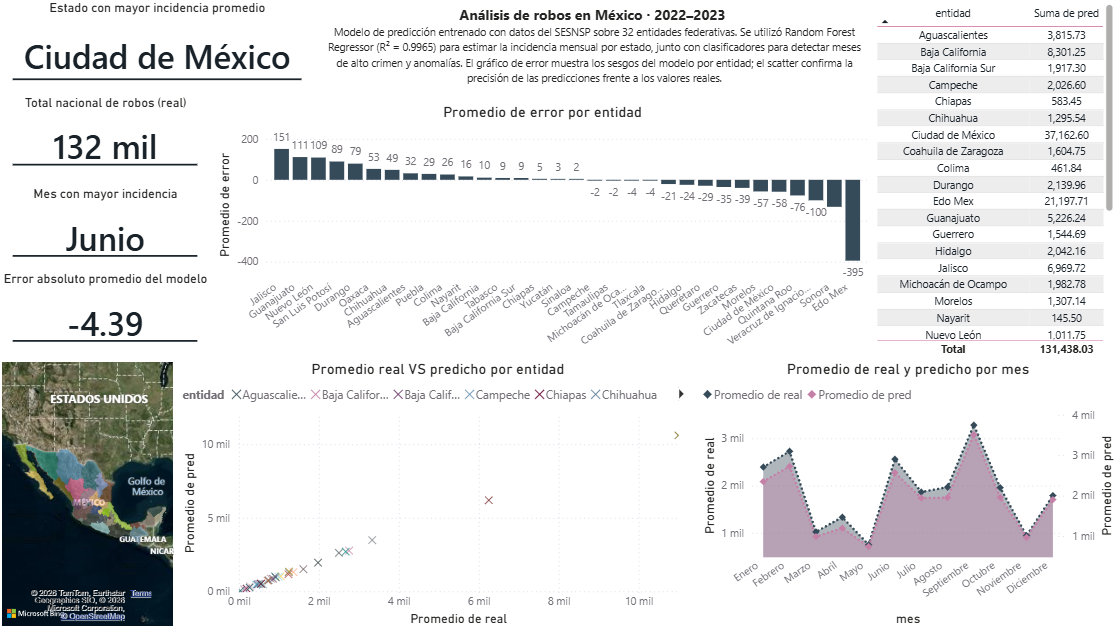

This screenshot's page, from the dashboard's own definition file:
{"tool":"powerbi","page":{"name":"Página 1","canvas":[1280,720],"ordinal":0},"visuals":[{"type":"clusteredColumnChart","fields":{"Y":["Avg(resultados_modelo.error)"],"Category":["resultados_modelo.entidad"]},"box":[245.8,117.4,753.3,291],"z":0},{"type":"tableEx","fields":{"Values":["resultados_modelo.entidad","Sum(resultados_modelo.pred)"]},"box":[999.1,0,281.3,412.1],"z":1000},{"type":"filledMap","fields":{"Category":["resultados_modelo.entidad"],"Series":["resultados_modelo.pred"]},"box":[0,408.4,205.4,311.8],"z":2000},{"type":"textbox","box":[364.4,0,634.7,108.8],"z":3000},{"type":"cardVisual","title":"Total nacional de robos (real)","fields":{"Data":["resultados_modelo.Total Nacional"]},"box":[0,108.8,245.8,97.8],"z":4000},{"type":"cardVisual","title":"Estado con mayor incidencia promedio","fields":{"Data":["resultados_modelo.Estado Top"]},"box":[0,0,364.4,108.8],"z":5000},{"type":"cardVisual","title":"Mes con mayor incidencia","fields":{"Data":["resultados_modelo.Mes Pico"]},"box":[0,212.8,245.8,97.8],"z":6000},{"type":"cardVisual","title":"Error absoluto promedio del modelo","fields":{"Data":["resultados_modelo.MAE Modelo"]},"box":[0,310.6,245.8,97.8],"z":7000},{"type":"scatterChart","title":"Promedio real VS predicho por entidad","fields":{"X":["Avg(resultados_modelo.real)"],"Y":["Avg(resultados_modelo.pred)"],"Category":["resultados_modelo.entidad"],"Series":["resultados_modelo.entidad"]},"box":[205.4,412.1,594.3,308.2],"z":8000},{"type":"lineChart","title":"Promedio de real y predicho por mes","fields":{"Y":["Avg(resultados_modelo.real)"],"Y2":["Avg(resultados_modelo.pred)"],"Category":["resultados_modelo.mes"]},"box":[799.7,412.1,480.6,308.2],"z":9000}]}

Visuals, with their boxes in screenshot pixels (x1, y1, x2, y2), scaled from the page's 1280x720 canvas onto the 1117x630 screenshot:
clusteredColumnChart - Avg(resultados_modelo.error) x resultados_modelo.entidad: locate(214, 103, 872, 357)
tableEx - resultados_modelo.entidad x Sum(resultados_modelo.pred): locate(872, 0, 1116, 361)
filledMap - resultados_modelo.entidad x resultados_modelo.pred: locate(0, 357, 179, 629)
textbox: locate(318, 0, 872, 95)
"Total nacional de robos (real)" cardVisual: locate(0, 95, 214, 181)
"Estado con mayor incidencia promedio" cardVisual: locate(0, 0, 318, 95)
"Mes con mayor incidencia" cardVisual: locate(0, 186, 214, 272)
"Error absoluto promedio del modelo" cardVisual: locate(0, 272, 214, 357)
"Promedio real VS predicho por entidad" scatterChart: locate(179, 361, 698, 629)
"Promedio de real y predicho por mes" lineChart: locate(698, 361, 1116, 629)
